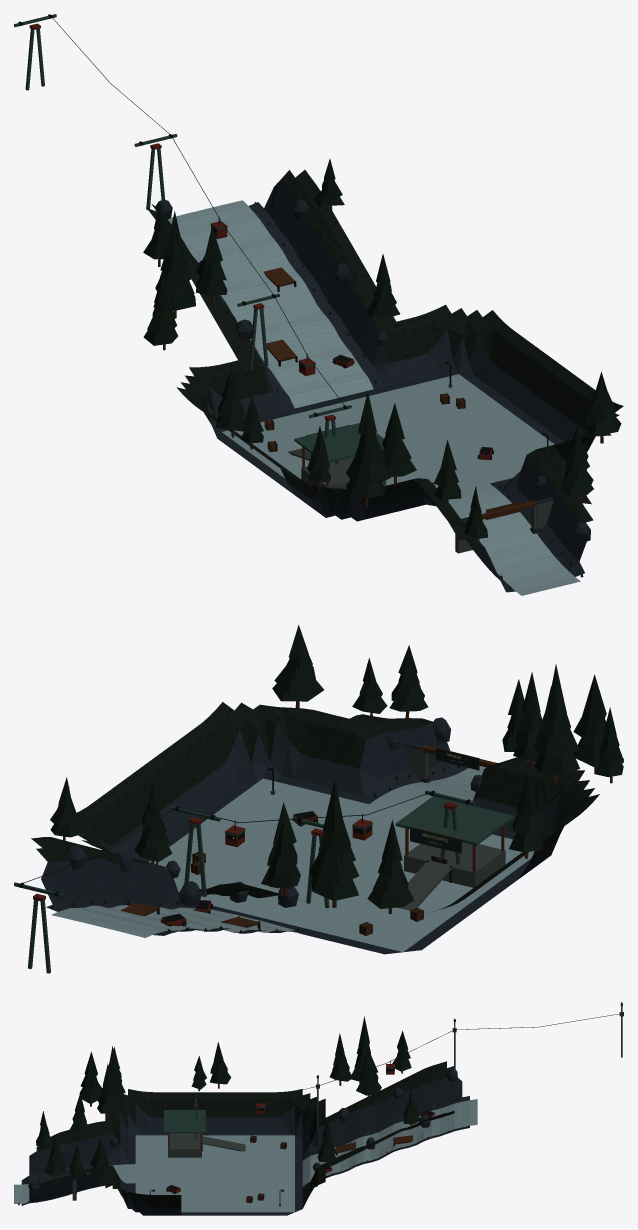
The model's file is Pohorje_Route_B.fbx.
3 renders of one model, top to bottom at view 1: azimuth 30°, elevation 25°; view 2: azimuth 150°, elevation 25°; view 3: azimuth 270°, elevation 25°, orthographic. The views are drawn at different scales.
Visible parts, largest first — view 1: PL_B_Ground_03_03, PL_B_Ground_03_04, PL_B_Ground_03_02, PL_B_Ground_04_03, PL_B_Ground_04_04, PL_B_Ground_04_02, PL_B_Forest_20_23, PL_B_Forest_21_26, PL_B_Forest_20_26, PL_B_Forest_21_25, PL_B_Forest_20_27, PL_B_Forest_19_27 (+7 smaller); view 2: PL_B_Ground_03_04, PL_B_Ground_03_03, PL_B_Ground_04_03, PL_B_Ground_04_04, PL_B_Ground_03_02, PL_B_Forest_20_23, PL_B_Forest_20_26, PL_B_Terminal_20_25, PL_B_RemovableRoof_Terminal, PL_B_Forest_21_26, PL_B_Forest_19_27, PL_B_Ground_04_02 (+17 smaller); view 3: PL_B_Ground_04_03, PL_B_Ground_04_04, PL_B_Ground_03_03, PL_B_Ground_04_02, PL_B_Ground_03_04, PL_B_Ground_03_02, PL_B_Forest_20_23, PL_B_Forest_20_26, PL_B_RemovableRoof_Terminal, PL_B_Terminal_20_25, PL_B_Forest_21_25, PL_B_Forest_19_27 (+7 smaller).
Part boxes in pixels (x1,y1,x2,y2): PL_B_Ground_03_03: [289, 272, 583, 465]; PL_B_Ground_03_04: [426, 382, 623, 588]; PL_B_Ground_03_02: [203, 170, 367, 328]; PL_B_Ground_04_03: [177, 308, 425, 496]; PL_B_Ground_04_04: [268, 459, 550, 595]; PL_B_Ground_04_02: [147, 204, 288, 336]; PL_B_Forest_20_23: [143, 202, 227, 318]; PL_B_Forest_21_26: [307, 423, 385, 507]; PL_B_Forest_20_26: [346, 391, 416, 484]; PL_B_Forest_21_25: [216, 368, 263, 449]; PL_B_Forest_20_27: [434, 439, 511, 589]; PL_B_Forest_19_27: [530, 425, 593, 577]; PL_B_Ground_03_04: [175, 702, 486, 842]; PL_B_Ground_03_03: [74, 743, 363, 919]; PL_B_Ground_04_03: [200, 835, 551, 954]; PL_B_Ground_04_04: [364, 757, 599, 880]; PL_B_Ground_03_02: [31, 837, 199, 925]; PL_B_Forest_20_23: [185, 779, 359, 933]; PL_B_Forest_20_26: [513, 664, 579, 782]; PL_B_Terminal_20_25: [404, 825, 505, 887]; PL_B_RemovableRoof_Terminal: [395, 796, 513, 845]; PL_B_Forest_21_26: [573, 674, 623, 783]; PL_B_Forest_19_27: [352, 645, 459, 778]; PL_B_Ground_04_02: [98, 883, 283, 937]; PL_B_Ground_04_03: [181, 1089, 363, 1173]; PL_B_Ground_04_04: [14, 1089, 181, 1194]; PL_B_Ground_03_03: [181, 1146, 363, 1215]; PL_B_Ground_04_02: [363, 1061, 477, 1145]; PL_B_Ground_03_04: [14, 1165, 181, 1215]; PL_B_Ground_03_02: [363, 1111, 477, 1163]; PL_B_Forest_20_23: [350, 1016, 438, 1130]; PL_B_Forest_20_26: [91, 1046, 125, 1166]; PL_B_RemovableRoof_Terminal: [164, 1110, 205, 1133]; PL_B_Terminal_20_25: [168, 1114, 206, 1157]; PL_B_Forest_21_25: [191, 1042, 231, 1091]; PL_B_Forest_19_27: [18, 1137, 85, 1205].
Bounding box in the file's own units: 68.35 × 48.39 × 161.
